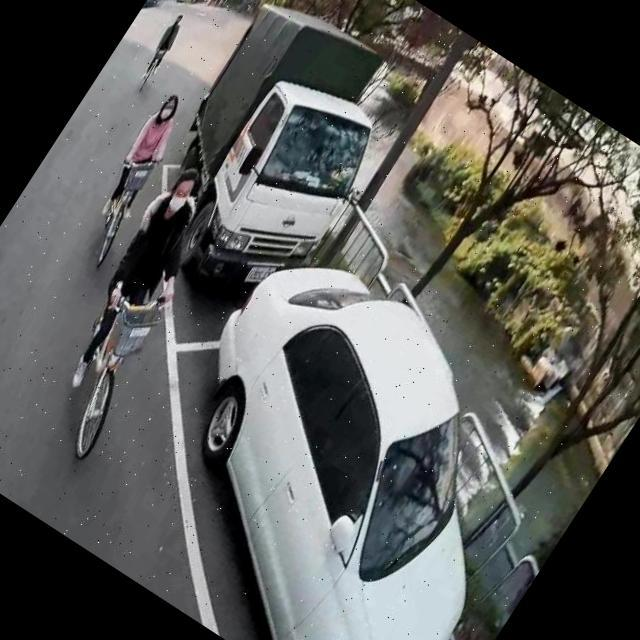person: (41, 154, 243, 410), (88, 82, 204, 229), (134, 8, 194, 86)
